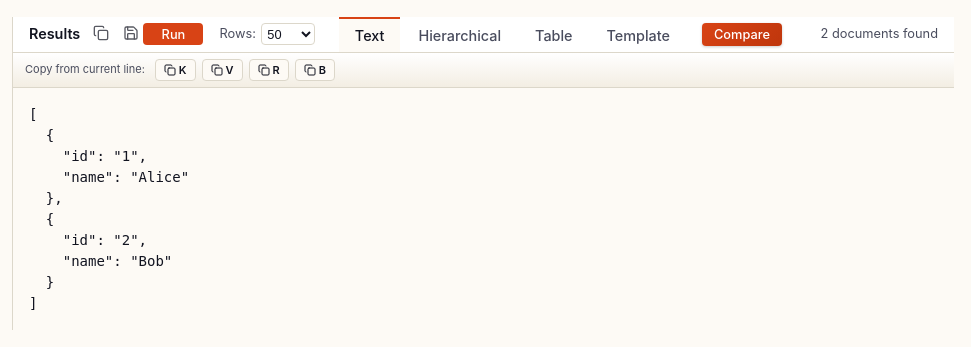
it: ResultsView › switches to Table view and renders columns and rows
Click the button "Table".
click(554, 34)  # box [519,16,588,52]
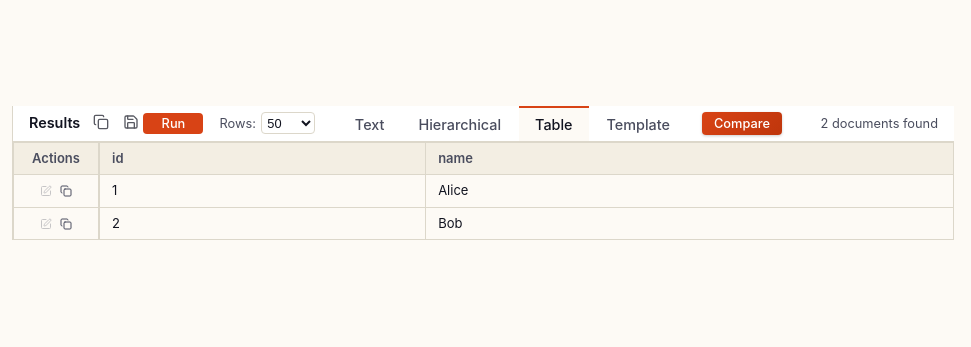
Expected: the text "id" is shown, [112,149,124,168]
Result: the column heading "Actions" is shown at [14,142,99,175]
